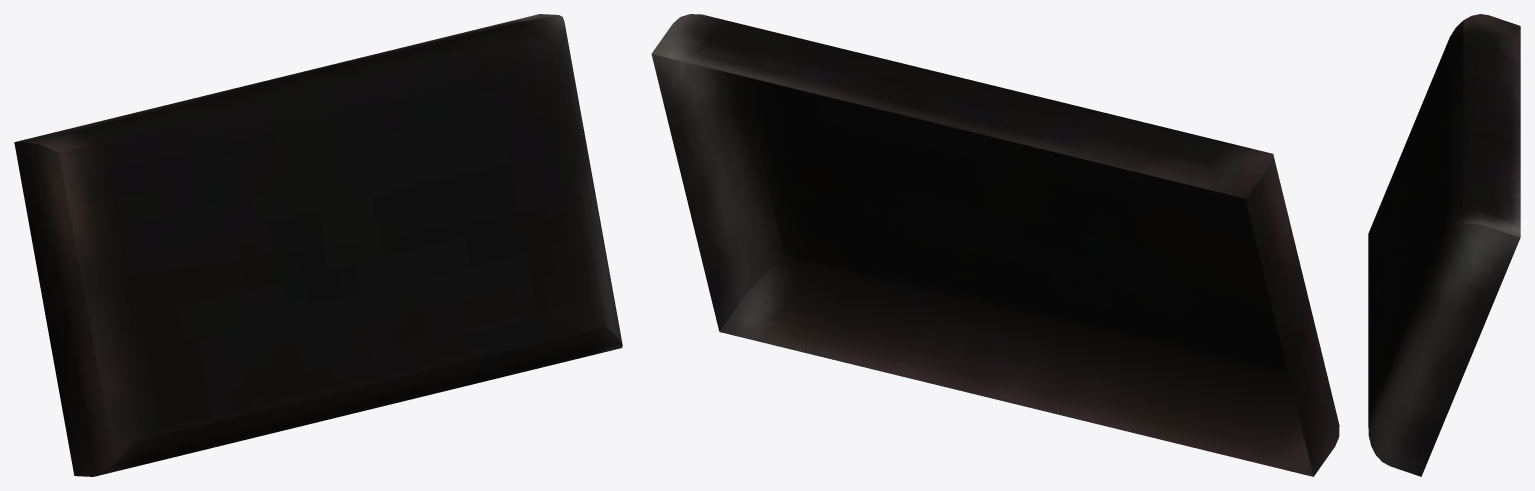
File: link_3__button-4.glb
3 views of the same model, side by side, from view 1: azimuth 30°, elevation 25°; view 2: azimuth 150°, elevation 25°; view 3: azimuth 270°, elevation 25° (orthographic). The views are drawn at different scales.
Visible parts, largest first — view 1: geometry_0; view 2: geometry_0; view 3: geometry_0.
Boxes of the visible parts, x1=… form: geometry_0: x1=14, y1=14, x2=622, y2=476; geometry_0: x1=651, y1=14, x2=1339, y2=476; geometry_0: x1=1368, y1=14, x2=1520, y2=476.
Size of the model in its own units: 0.0354 by 0.0197 by 0.0108.
Materials: 1 (1 with a texture image).
